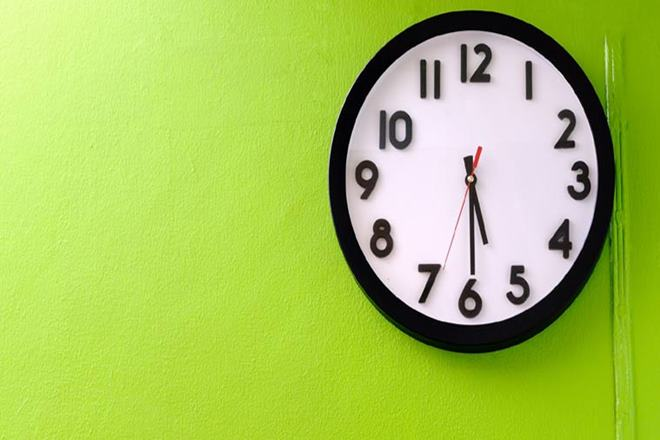clock: (344, 29, 600, 329)
